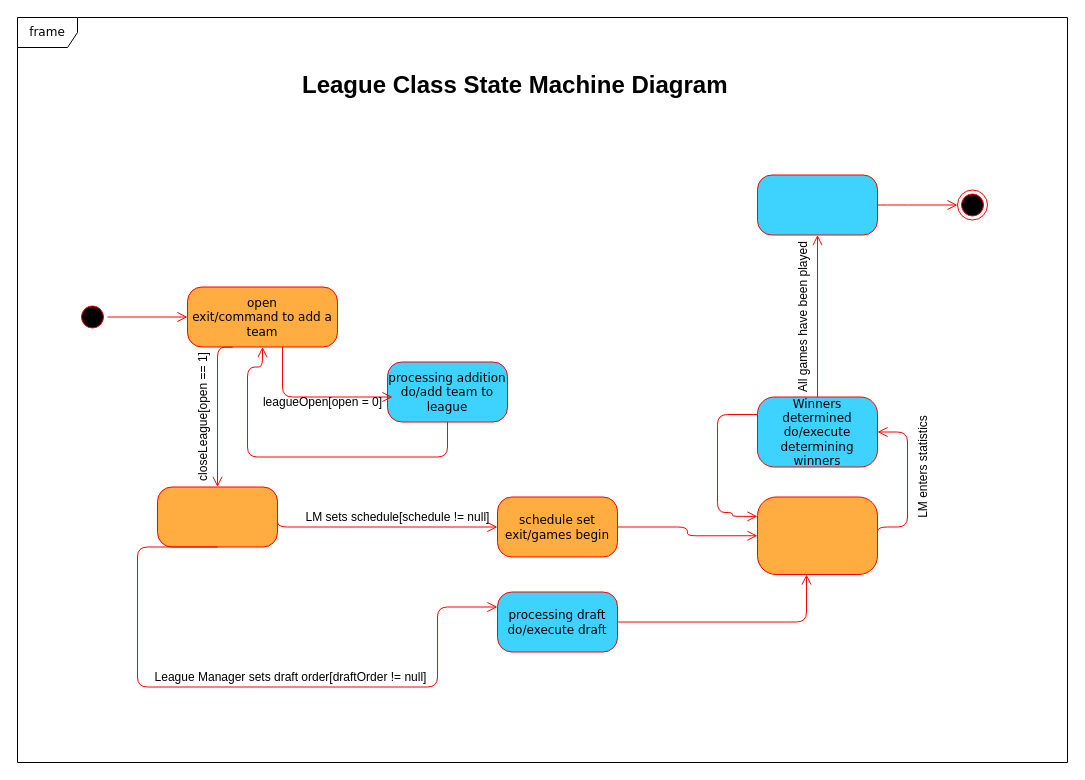
This 1085x780 diagram has some shape labels left out. Here are the shapes that lost their labels. From the top down, the centre of each, then its label:
At (817,204): "final rankings determined exit/end leaue".
At (217,516): "closed exit/execute creating draft".
At (817,535): "weekly statistics available exit/ command is entered to enter statistics".
